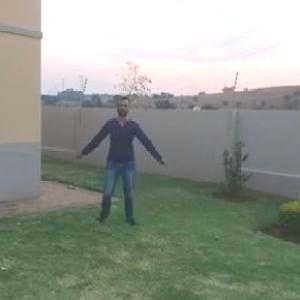land: (74, 93, 180, 228)
